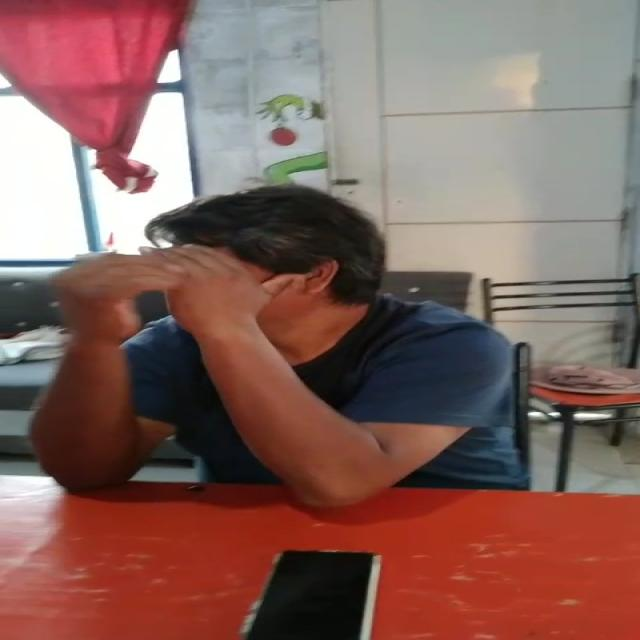7_mano_rostro: (158, 244, 295, 415)
